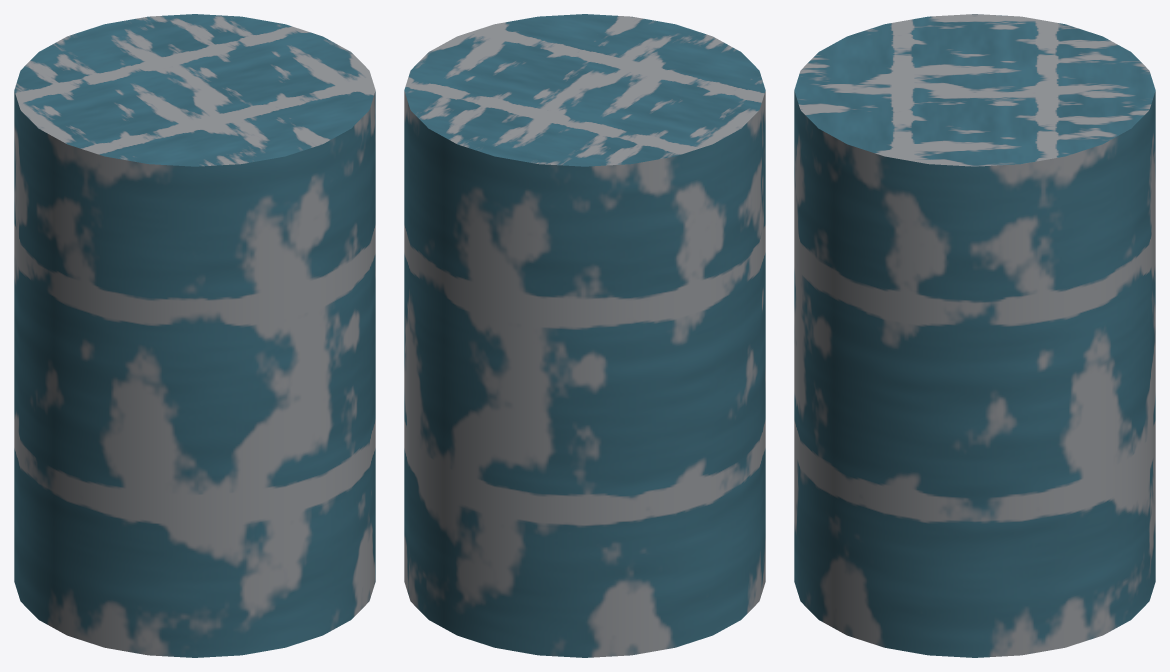
File: barrel.glb
The picture shows the model from 3 angles, left to right: view 1: azimuth 30°, elevation 25°; view 2: azimuth 150°, elevation 25°; view 3: azimuth 270°, elevation 25°; orthographic projection.
Visible parts, largest first — view 1: Barrel; view 2: Barrel; view 3: Barrel.
Boxes of the visible parts, bbox=[...] form: Barrel: bbox=[14, 14, 375, 657]; Barrel: bbox=[404, 14, 765, 657]; Barrel: bbox=[794, 14, 1155, 657].
Size of the model in its own units: 0.6 by 0.9 by 0.6.
Materials: 1 (1 with a texture image).
